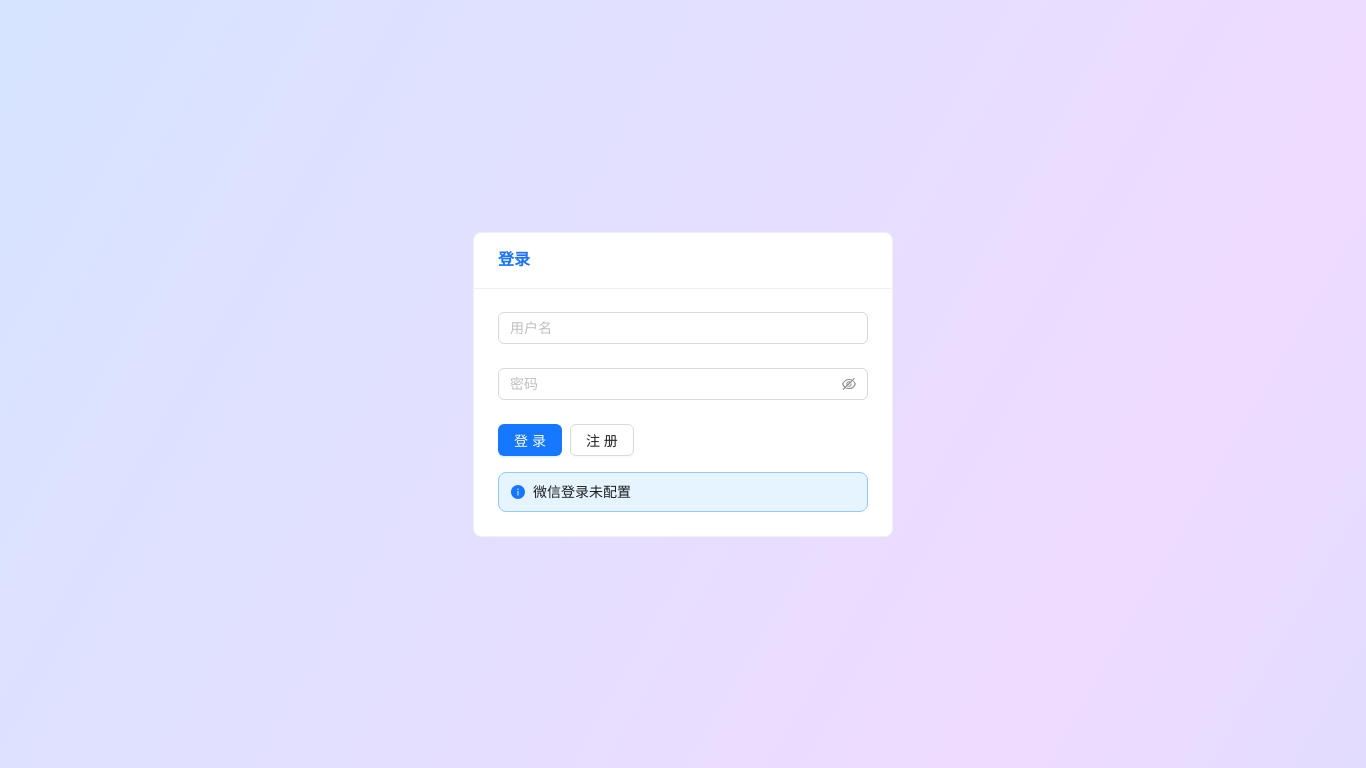
Test: portal login › registers and opens the workbench
The width and height of the screenshot is (1366, 768).
Click the button with test id "platform/login/register" at (602, 440), box [570,424,634,456]
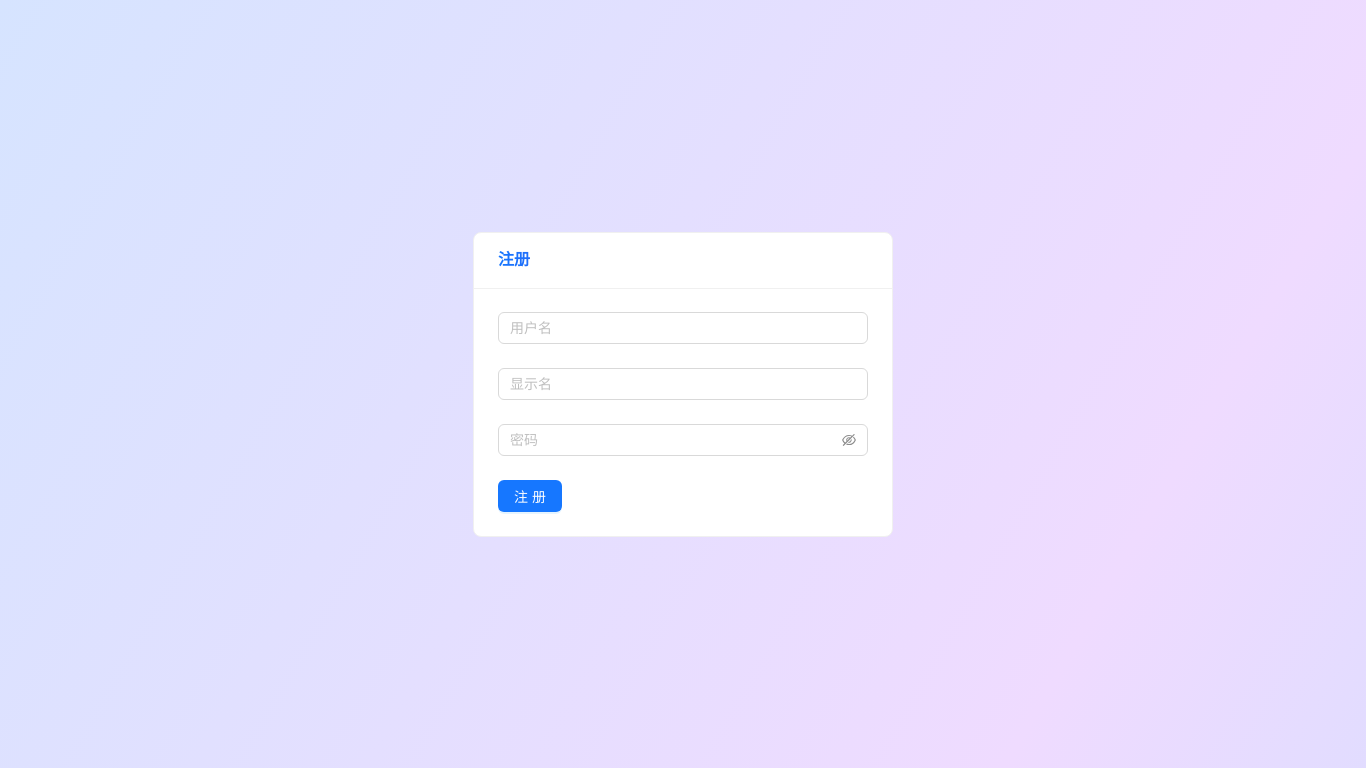
Type "newuser" into the field with test id "platform/register/username" at (683, 328), box [498,312,868,344]
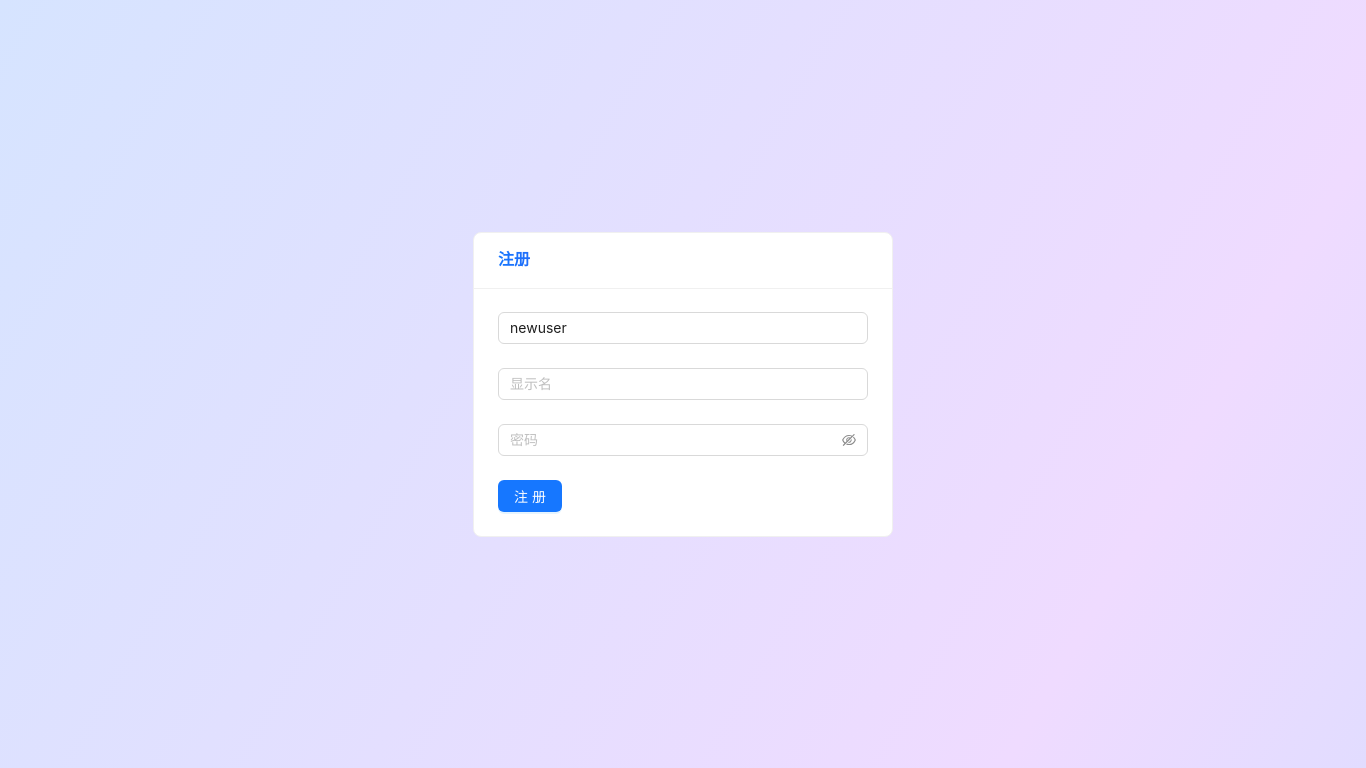
Type "新用户" into the field with test id "platform/register/display-name" at (683, 384), box [498,368,868,400]
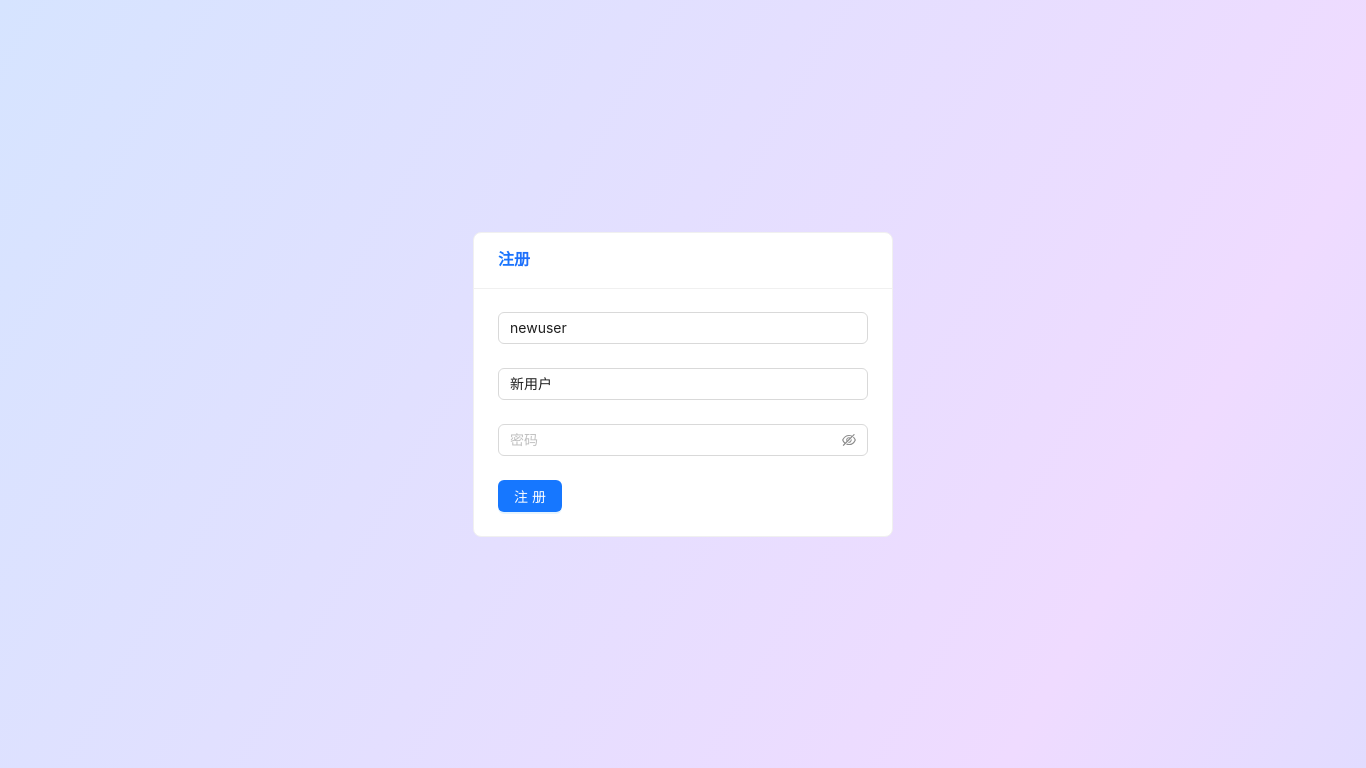
Type "secret" into the password field with test id "platform/register/password" at (674, 440), box [510,428,838,450]
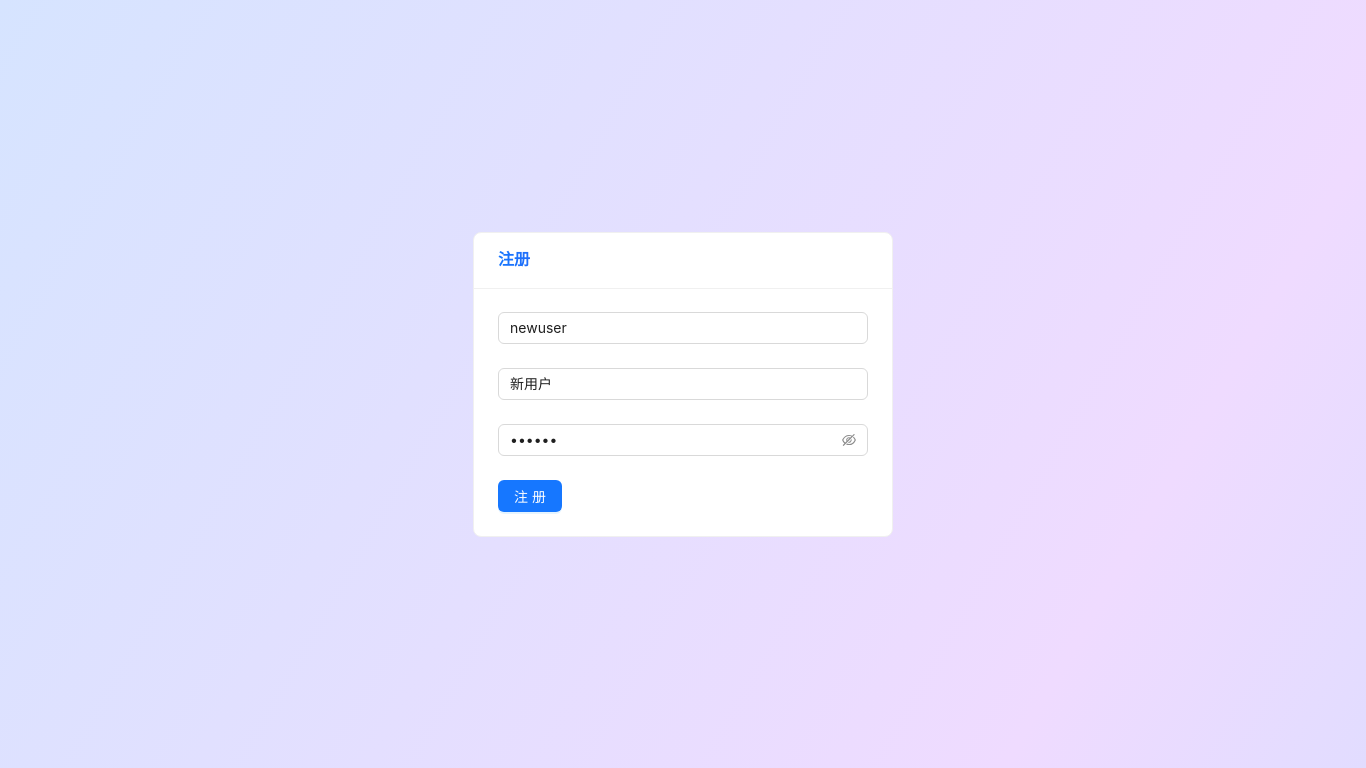
Click the button with test id "platform/register/submit" at (530, 496), box [498,480,562,512]
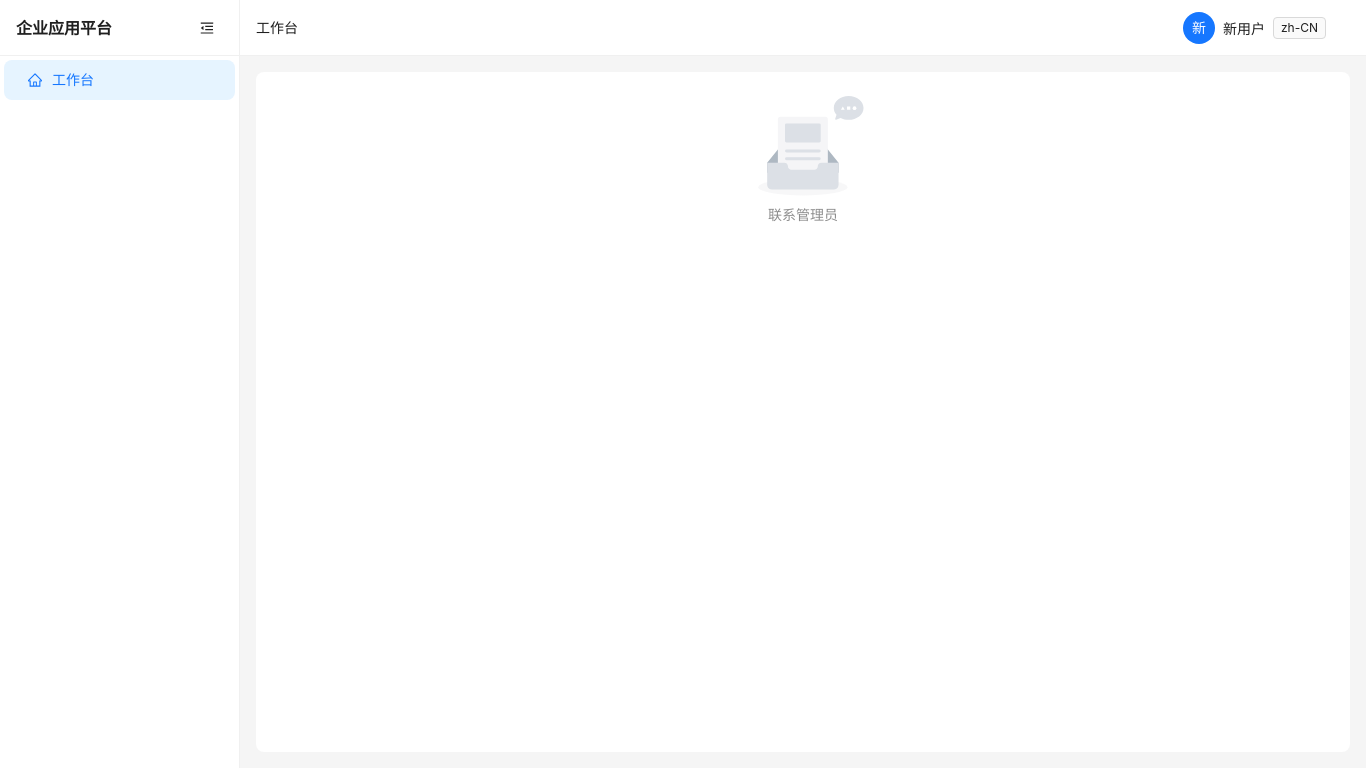
Expected: the text with test id "platform/shell/user" reads "新用户", [1223,20,1265,36]
